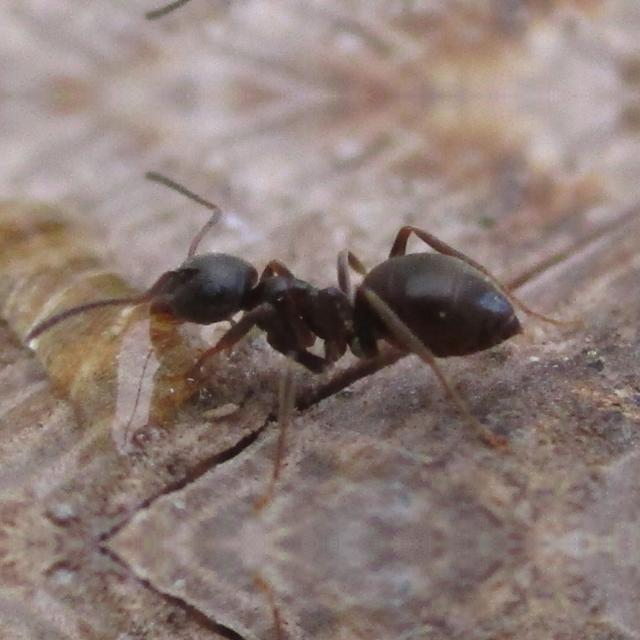Lasius: (84, 168, 538, 436)
